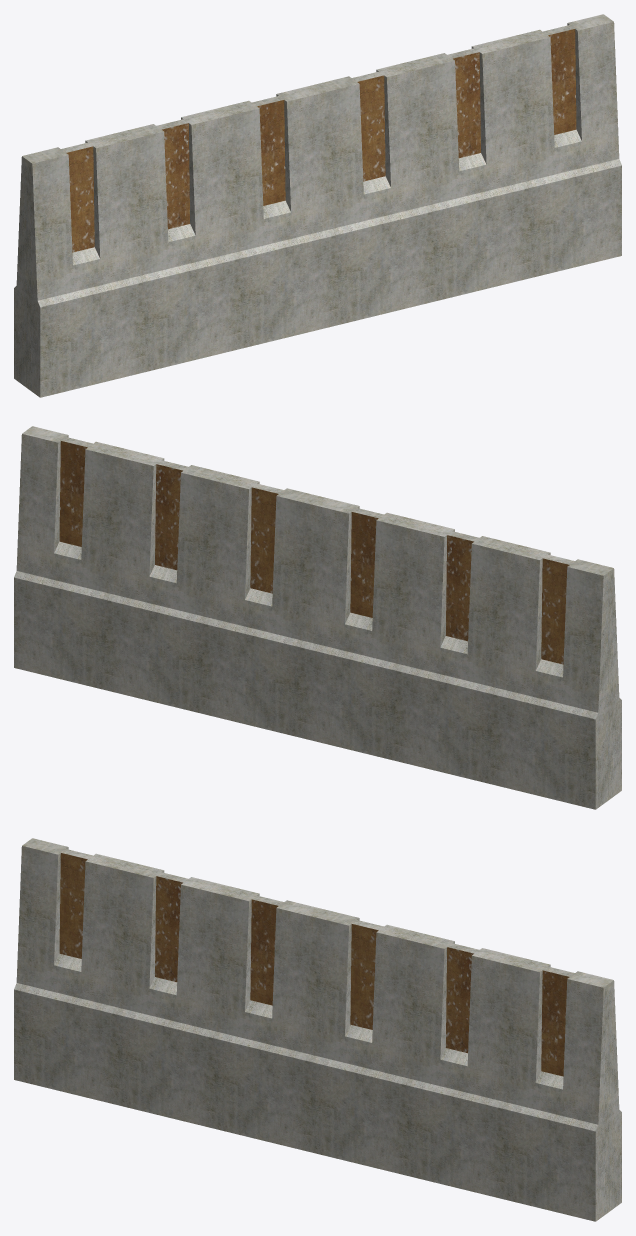
File: mun_all_military_wall_weak_rebl_16_s01_l0.fbx
3 renders of one model, top to bottom at view 1: azimuth 30°, elevation 25°; view 2: azimuth 150°, elevation 25°; view 3: azimuth 330°, elevation 25°, orthographic.
Parts seen in each view (by area): view 1: mesh_node; view 2: mesh_node; view 3: mesh_node.
Part boxes in pixels (x1,y1,x2,y2): mesh_node: (14, 14, 621, 397); mesh_node: (14, 426, 621, 809); mesh_node: (14, 838, 621, 1221).
Size of the model in its own units: 16 by 6 by 1.25.
